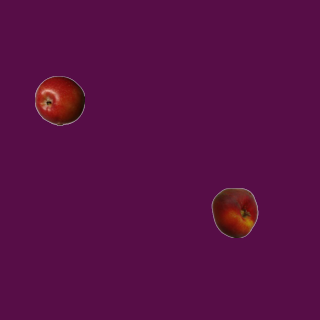Apple Braeburn: (34, 75, 84, 125)
Nectarine Flat: (209, 187, 259, 237)
